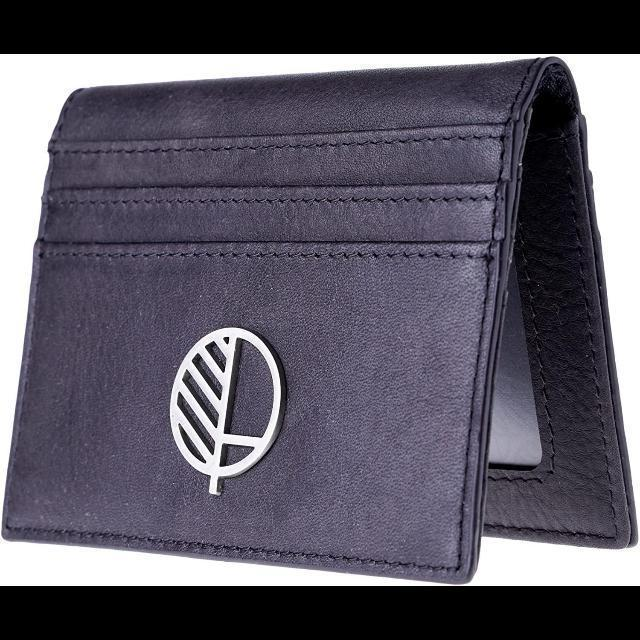wallet: (1, 54, 639, 582)
